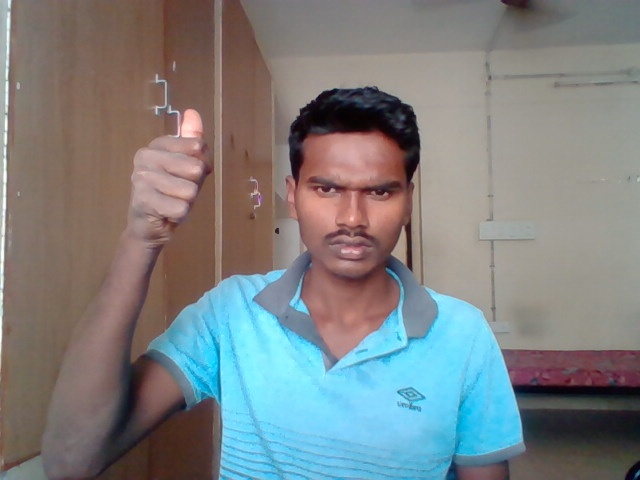Yes: (125, 108, 216, 249)
